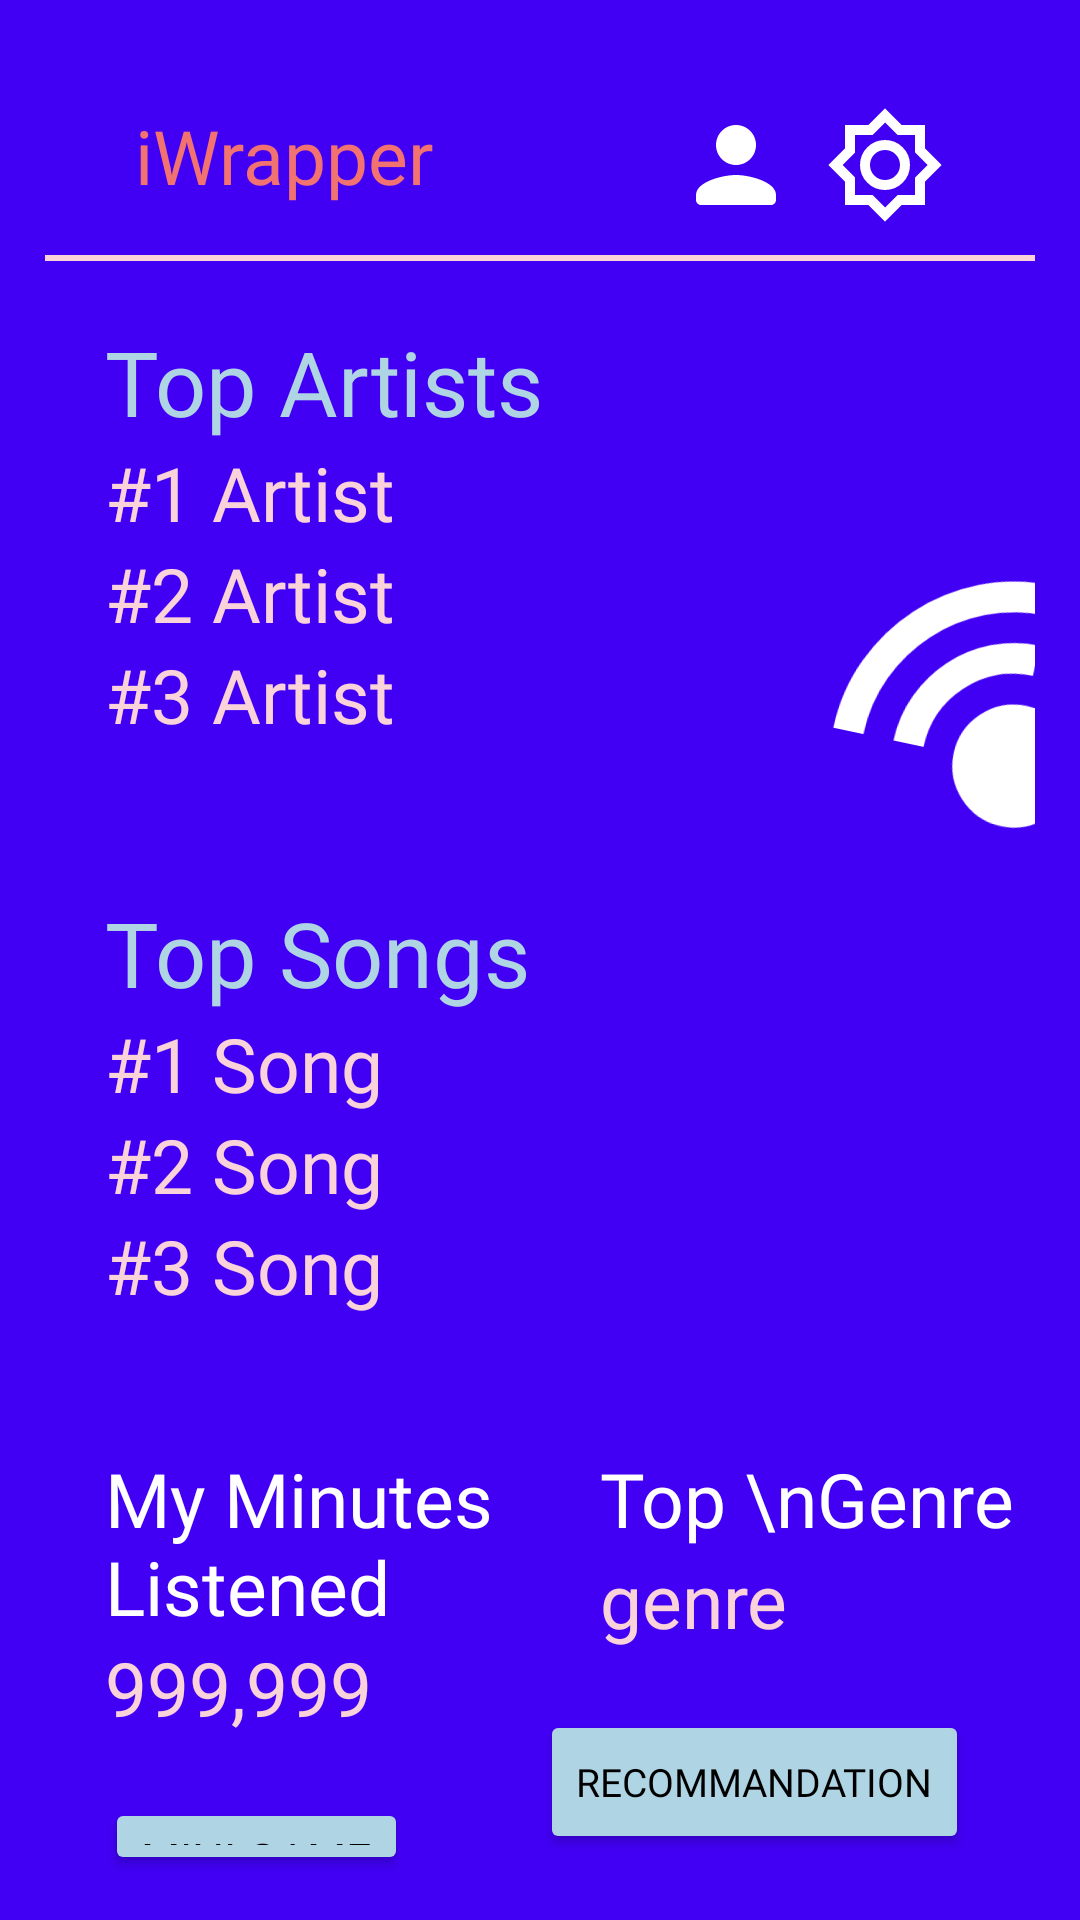

Where icons sit on this 1080 × 1920 app screen, as region(x1, y1, x2, y2):
profile: region(696, 125, 776, 205)
setting: region(828, 108, 942, 222)
